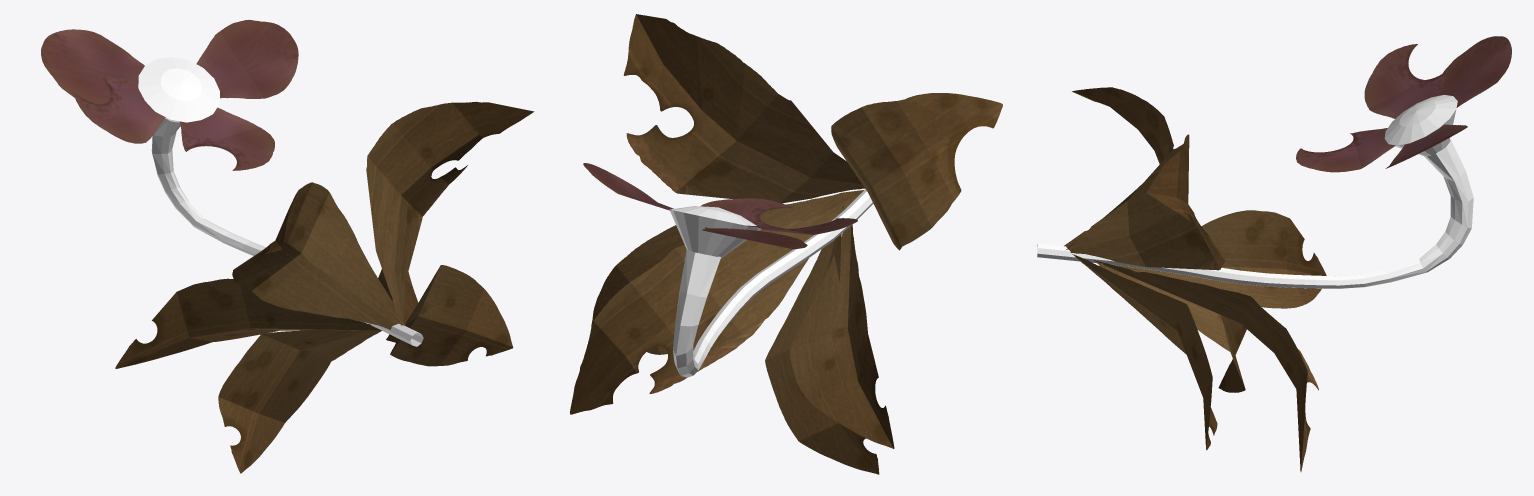
The model's file is FlowerPinkDc.fbx.
3 renders of one model, left to right at view 1: azimuth 30°, elevation 25°; view 2: azimuth 150°, elevation 25°; view 3: azimuth 270°, elevation 25°, orthographic. The views are drawn at different scales.
Parts seen in each view (by area): view 1: w5_gismo_FlowerPinkDc; view 2: w5_gismo_FlowerPinkDc; view 3: w5_gismo_FlowerPinkDc.
Boxes of the visible parts, <box> form: w5_gismo_FlowerPinkDc: <box>41,19,534,473</box>; w5_gismo_FlowerPinkDc: <box>570,14,1002,474</box>; w5_gismo_FlowerPinkDc: <box>1037,36,1511,471</box>.
Size of the model in its own units: 0.9215 by 1.1 by 0.8654.
2 materials, 1 textured.
